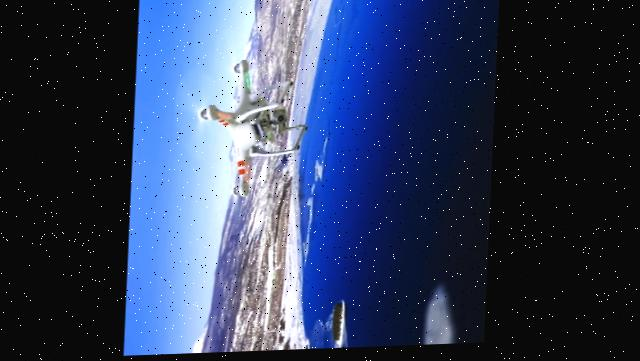drone: (191, 56, 310, 202)
